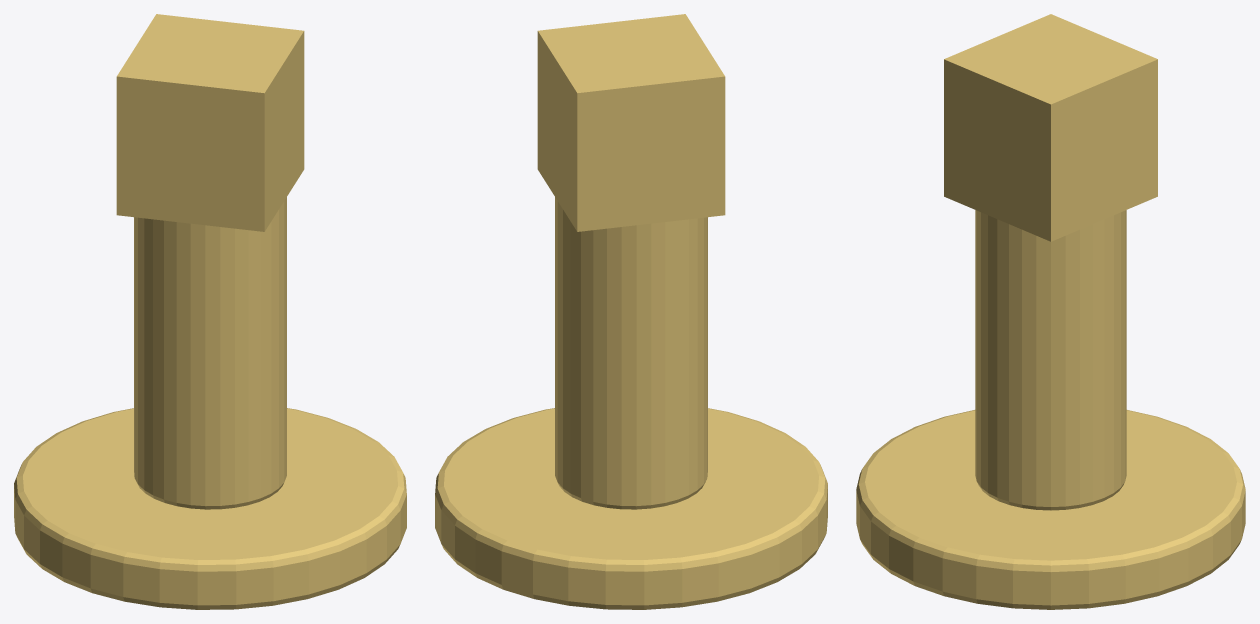
File: t4_pedestal.glb
3 views of the same model, side by side, from view 1: azimuth 30°, elevation 25°; view 2: azimuth 150°, elevation 25°; view 3: azimuth 270°, elevation 25° (orthographic).
Visible parts, largest first — view 1: Base, Column, Plinth; view 2: Base, Column, Plinth; view 3: Base, Column, Plinth.
Boxes of the visible parts, box(x1,y1,x2,y2) form: Base: box(14, 408, 406, 609); Column: box(134, 197, 286, 509); Plinth: box(116, 14, 304, 231); Base: box(435, 408, 827, 609); Column: box(555, 197, 707, 509); Plinth: box(537, 14, 725, 231); Base: box(856, 410, 1245, 609); Column: box(975, 210, 1126, 510); Plinth: box(944, 14, 1157, 241).
Bounding box in the file's own units: 1.8 × 2.4 × 1.8.
